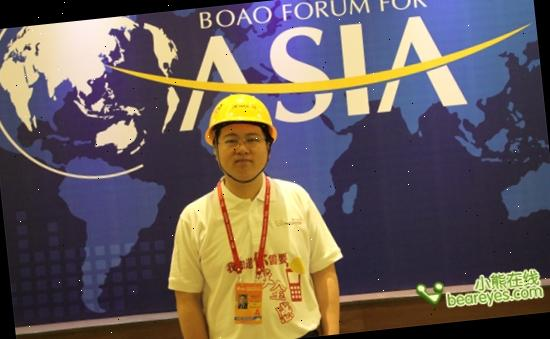helmet: (200, 86, 278, 140)
no_wear: (163, 180, 342, 339)
